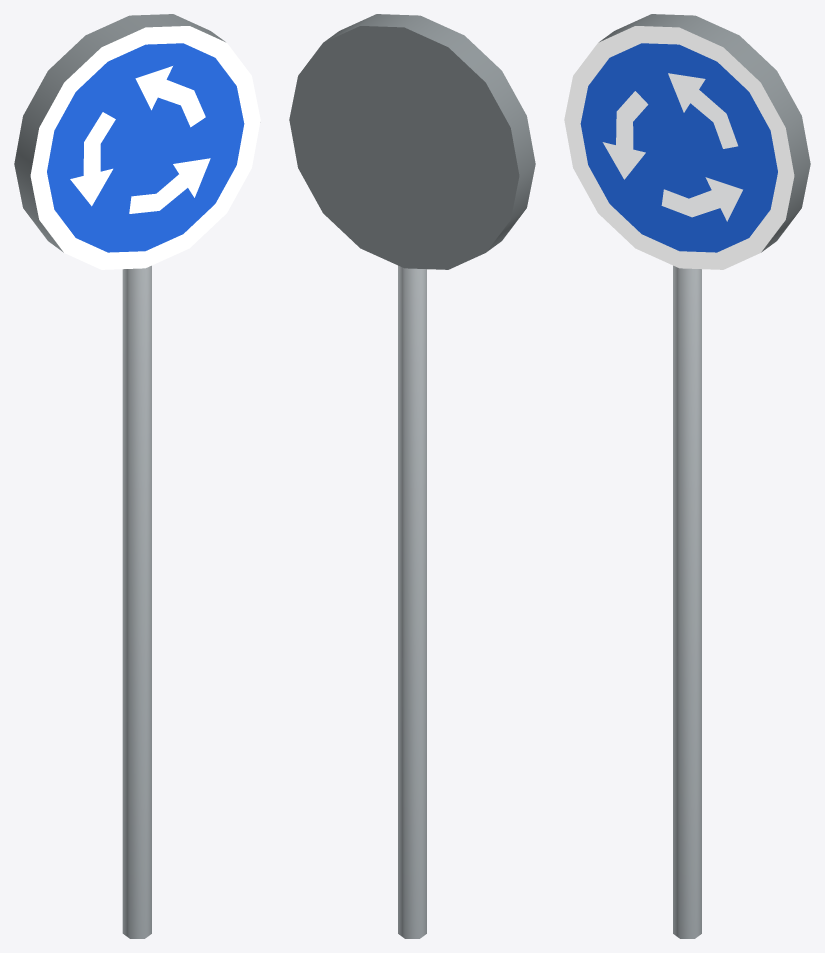
File: Road_Sign_08.glb
3 renders of one model, left to right at view 1: azimuth 30°, elevation 25°; view 2: azimuth 150°, elevation 25°; view 3: azimuth 330°, elevation 25°, orthographic.
Parts seen in each view (by area): view 1: Road_Sign_08; view 2: Road_Sign_08; view 3: Road_Sign_08.
Part boxes in pixels (x1,y1,x2,y2): Road_Sign_08: (14,14,260,938); Road_Sign_08: (289,14,535,938); Road_Sign_08: (564,14,810,938).
Bounding box in the file's own units: 0.7311 × 2.77 × 0.0926.
Materials: 1 (1 with a texture image).
